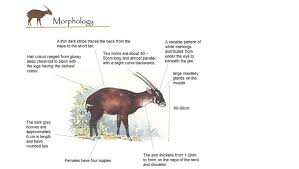sao_la: (85, 71, 166, 140)
